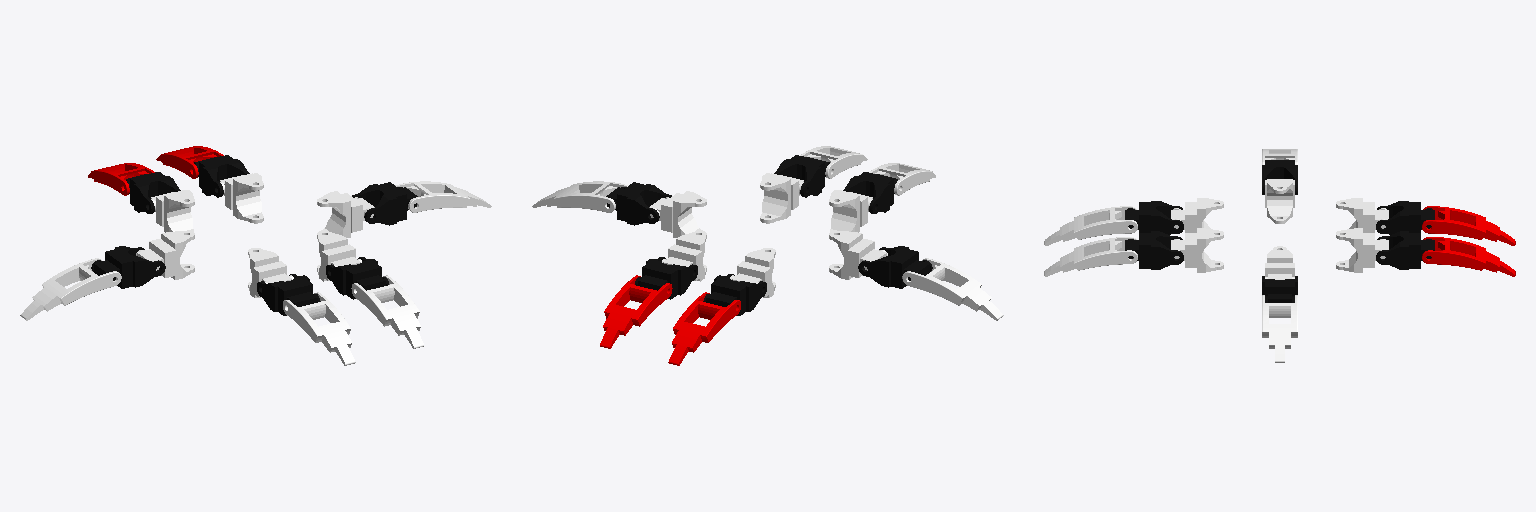
--- Facts derived from the render (not from the file) ---
The picture shows the robot from 3 angles, left to right: view 1: azimuth 30°, elevation 25°; view 2: azimuth 150°, elevation 25°; view 3: azimuth 270°, elevation 25°; orthographic projection.
Model hexapod_robot with 19 links and 18 joints (18 revolute), rooted at base_link, posed every joint at zero.
Visible links, largest first — view 1: foot_link_23, foot_link_33, foot_link_63, shin_link_22, foot_link_53, shin_link_52, thigh_link_41, thigh_link_21, thigh_link_51, shin_link_62, shin_link_32, thigh_link_11 (+6 smaller); view 2: foot_link_23, foot_link_13, foot_link_43, shin_link_22, foot_link_53, shin_link_52, thigh_link_61, thigh_link_21, thigh_link_51, shin_link_42, shin_link_12, thigh_link_31 (+6 smaller); view 3: foot_link_43, foot_link_63, foot_link_13, foot_link_33, foot_link_53, shin_link_42, shin_link_62, thigh_link_41, thigh_link_61, shin_link_12, shin_link_32, thigh_link_21 (+5 smaller).
Link boxes in pixels (x1,y1,x2,y2): foot_link_23: [20, 258, 121, 320]; foot_link_33: [283, 292, 355, 365]; foot_link_63: [351, 275, 423, 348]; shin_link_22: [91, 246, 165, 288]; foot_link_53: [395, 181, 491, 212]; shin_link_52: [352, 182, 417, 225]; thigh_link_41: [220, 173, 263, 223]; thigh_link_21: [136, 231, 194, 279]; thigh_link_51: [317, 191, 374, 237]; shin_link_62: [326, 257, 388, 299]; shin_link_32: [257, 274, 320, 315]; thigh_link_11: [151, 190, 194, 232]; foot_link_23: [902, 258, 1003, 320]; foot_link_13: [668, 292, 740, 365]; foot_link_43: [600, 275, 672, 348]; shin_link_22: [858, 246, 932, 288]; foot_link_53: [532, 181, 628, 212]; shin_link_52: [606, 182, 671, 225]; thigh_link_61: [760, 173, 803, 223]; thigh_link_21: [829, 231, 887, 279]; thigh_link_51: [649, 191, 706, 237]; shin_link_42: [635, 257, 697, 299]; shin_link_12: [703, 274, 766, 315]; thigh_link_31: [829, 190, 872, 232]; foot_link_43: [1422, 237, 1515, 276]; foot_link_63: [1044, 237, 1137, 276]; foot_link_13: [1422, 206, 1515, 245]; foot_link_33: [1044, 206, 1137, 245]; foot_link_53: [1262, 295, 1297, 362]; shin_link_42: [1376, 231, 1434, 269]; shin_link_62: [1125, 231, 1183, 269]; thigh_link_41: [1336, 228, 1388, 272]; thigh_link_61: [1171, 228, 1223, 272]; shin_link_12: [1376, 201, 1434, 234]; shin_link_32: [1125, 201, 1183, 234]; thigh_link_21: [1265, 179, 1294, 223].
Bounding box of the posed robot: 0.8654 × 0.8311 × 0.08 m (x, y, z).
Meshes: 13 distinct files referenced, 18 mesh visuals loaded (12 binary STL); not drawn: 1 (reference not matched to a file when rendering).

URDF robot description (hexapod_robot):
<?xml version="1.0"?>
<robot xmlns:xacro="http://www.ros.org/wiki/xacro"  name="hexapod_robot">

    <material name="white">
        <color rgba="1 1 1 1" />
    </material>

    <material name="orange">
        <color rgba="1 0.3 0.1 1"/>
    </material>

    <material name="black">
        <color rgba="0.1 0.1 0.1 1"/>
    </material>

    <material name="red">
        <color rgba="1 0 0 1"/>
    </material>
    
    <!-- Base Link
    <link name="base_link"/>

    <joint name="chassis_joint" type="fixed">
        <parent link="base_link"/>
        <child link="chassis"/>
        <origin xyz="0 0 0"/>
    </joint> -->
    
    <!-- Chassis link -->
    <link name="base_link">
        <visual>
            <origin xyz="0 0 0" rpy="0 0 0"/>
            <geometry>
		    <mesh filename="package://hexapod_pkg/meshes/base_link.stl" scale="1 1 1"/>
            </geometry>
            <material name="orange"/>
        </visual>
        <collision>
            <geometry>
		    <mesh filename="package://hexapod_pkg/meshes/base_link.stl" scale="1 1 1"/>
            </geometry>
        </collision>
        <inertial>
            <mass value="1.66723442"/>
            <inertia ixx="0.00977373" ixy="0.00001275" ixz="0.00023177" iyy="0.01042072" iyz="0.01042072" izz="0.01289955"/>
        </inertial>
    </link>
    
    <!-- chain 1 start -->
    <!-- joint 11 -->
    <joint name="joint_11" type="revolute">
        <parent link="base_link"/>
        <child link="thigh_link_11"/>
        <origin xyz="-0.06402054275 0.11088683276 0.028165" rpy="0 0 0"/>  <!-- Position relative to parent -->
        <axis xyz="0 0 -1"/>
        <limit lower="-1.0472" upper="2.0944" effort="4.5" velocity="3.0"/>
    </joint>

    <!-- Thigh Link 11 -->
    <link name="thigh_link_11">
        <visual>
            <origin xyz="0 0 0" rpy="0 0 0"/>
            <geometry>
                <mesh filename="package://hexapod_pkg/meshes/thigh_link_14.stl" scale="1 1 1"/>
            </geometry>
            <material name="white"/>
        </visual>
        <collision>
            <geometry>
                <mesh filename="package://hexapod_pkg/meshes/thigh_link_14.stl" scale="1 1 1"/>
            </geometry>
        </collision>
        <inertial>
            <mass value="0.1052"/>
            <inertia ixx="0.00032994" ixy="0.00000350" ixz="0" iyy="0.00003398" iyz="0" izz="0.00033378"/>
        </inertial>
    </link>

    <!-- joint 12 -->
    <joint name="joint_12" type="revolute">
        <parent link="thigh_link_11"/>
        <child link="shin_link_12"/>
        <origin xyz="0 0.07109 0" rpy="0 0 0"/>  <!-- Position relative to parent -->
        <axis xyz="1 0 0"/>
        <limit lower="-1.5712" upper="1.5712" effort="4.5" velocity="3.0"/>
    </joint>

    <!-- Shin Link 12 -->
    <link name="shin_link_12">
        <visual>
            <origin xyz="0 0 0" rpy="0 0 0"/>
            <geometry>
                <mesh filename="package://hexapod_pkg/meshes/shin_link_14.stl" scale="1 1 1"/>
            </geometry>
            <material name="black"/>
        </visual>
        <collision>
            <geometry>
                <mesh filename="package://hexapod_pkg/meshes/shin_link_14.stl" scale="1 1 1"/>
            </geometry>
        </collision>
        <inertial>
            <mass value="0.1011"/>
            <inertia ixx="0.00043187" ixy="0.00000399" ixz="0" iyy="0.00003189" iyz="0" izz="0.00045027"/>
        </inertial>
    </link>

    <!-- joint 13 -->
    <joint name="joint_13" type="revolute">
        <parent link="shin_link_12"/>
        <child link="foot_link_13"/>
        <origin xyz="0 0.08109 0" rpy="0 0 0"/>  <!-- Position relative to parent -->
        <axis xyz="1 0 0"/>
        <limit lower="-1.5712" upper="1.5712" effort="4.5" velocity="3.0"/>
    </joint>

    <!-- Foot Link 13 -->
    <link name="foot_link_13">
        <visual>
            <origin xyz="0 0 0" rpy="0 0 0"/>
            <geometry>
                <mesh filename="package://hexapod_pkg/meshes/foot_link_14.stl" scale="1 1 1"/>
            </geometry>
            <material name="red"/>
        </visual>
        <collision>
            <geometry>
                <mesh filename="package://hexapod_pkg/meshes/foot_link_14.stl" scale="1 1 1"/>
            </geometry>
        </collision>
        <inertial>
            <mass value="0.03702"/>
            <inertia ixx="0.00023291" ixy="0" ixz="0" iyy="0.00002537" iyz="-0.00004175" izz="0.00023879"/>
        </inertial>
    </link>
    <!-- chain 1 end -->

    <!-- chain 4 start -->
    <!-- joint 41 -->
    <joint name="joint_41" type="revolute">
        <parent link="base_link"/>
        <child link="thigh_link_41"/>
        <origin xyz="0.06402054275 0.11088683276 0.028165" rpy="0 0 0"/>  <!-- Position relative to parent -->
        <axis xyz="0 0 1"/>
        <limit lower="-2.0944" upper="1.0472" effort="4.5" velocity="3.0"/>
    </joint>

    <!-- Thigh Link 41 -->
    <link name="thigh_link_41">
        <visual>
            <origin xyz="0 0 0" rpy="0 0 0"/>
            <geometry>
                <mesh filename="package://hexapod_pkg/meshes/thigh_link_14.stl" scale="1 1 1"/>
            </geometry>
            <material name="white"/>
        </visual>
        <collision>
            <geometry>
                <mesh filename="package://hexapod_pkg/meshes/thigh_link_14.stl" scale="1 1 1"/>
            </geometry>
        </collision>
        <inertial>
            <mass value="0.1052"/>
            <inertia ixx="0.00032994" ixy="0.00000350" ixz="0" iyy="0.00003398" iyz="0" izz="0.00033378"/>
        </inertial>
    </link>

    <!-- joint 42 -->
    <joint name="joint_42" type="revolute">
        <parent link="thigh_link_41"/>
        <child link="shin_link_42"/>
        <origin xyz="0 0.07109 0" rpy="0 0 0"/>  <!-- Position relative to parent -->
        <axis xyz="1 0 0"/>
        <limit lower="-1.5712" upper="1.5712" effort="4.5" velocity="3.0"/>
    </joint>

    <!-- Shin Link 42 -->
    <link name="shin_link_42">
        <visual>
            <origin xyz="0 0 0" rpy="0 0 0"/>
            <geometry>
                <mesh filename="package://hexapod_pkg/meshes/shin_link_14.stl" scale="1 1 1"/>
            </geometry>
            <material name="black"/>
        </visual>
        <collision>
            <geometry>
                <mesh filename="package://hexapod_pkg/meshes/shin_link_14.stl" scale="1 1 1"/>
            </geometry>
        </collision>
        <inertial>
            <mass value="0.1011"/>
            <inertia ixx="0.00043187" ixy="0.00000399" ixz="0" iyy="0.00003189" iyz="0" izz="0.00045027"/>
        </inertial>
    </link>

    <!-- joint 43 -->
    <joint name="joint_43" type="revolute">
        <parent link="shin_link_42"/>
        <child link="foot_link_43"/>
        <origin xyz="0 0.08109 0" rpy="0 0 0"/>  <!-- Position relative to parent -->
        <axis xyz="1 0 0"/>
        <limit lower="-1.5712" upper="1.5712" effort="4.5" velocity="3.0"/>
    </joint>

    <!-- Foot Link 43 -->
    <link name="foot_link_43">
        <visual>
            <origin xyz="0 0 0" rpy="0 0 0"/>
            <geometry>
                <mesh filename="package://hexapod_pkg/meshes/foot_link_14.stl" scale="1 1 1"/>
            </geometry>
            <material name="red"/>
        </visual>
        <collision>
            <geometry>
                <mesh filename="package://hexapod_pkg/meshes/foot_link_14.stl" scale="1 1 1"/>
            </geometry>
        </collision>
        <inertial>
            <mass value="0.03702"/>
            <inertia ixx="0.00023291" ixy="0" ixz="0" iyy="0.00002537" iyz="-0.00004175" izz="0.00023879"/>
        </inertial>
    </link>
    <!-- chain 4 end -->

    <!-- chain 2 start -->
    <!-- joint 21 -->
    <joint name="joint_21" type="revolute">
        <parent link="base_link"/>
        <child link="thigh_link_21"/>
        <origin xyz="-0.12804108549 0 0.028165" rpy="0 0 0"/>  <!-- Position relative to parent -->
        <axis xyz="0 0 -1"/>
        <limit lower="-1.5712" upper="1.5712" effort="4.5" velocity="3.0"/>
    </joint>

    <!-- Thigh Link 21 -->
    <link name="thigh_link_21">
        <visual>
            <origin xyz="0 0 0" rpy="0 0 0"/>
            <geometry>
                <mesh filename="package://hexapod_pkg/meshes/thigh_link_2.stl" scale="1 1 1"/>
            </geometry>
            <material name="white"/>
        </visual>
        <collision>
            <geometry>
                <mesh filename="package://hexapod_pkg/meshes/thigh_link_2.stl" scale="1 1 1"/>
            </geometry>
        </collision>
        <inertial>
            <mass value="0.1052"/>
            <inertia ixx="0.00003398" ixy="-0.00000350" ixz="0" iyy="0.00032994" iyz="0" izz="0.00033378"/>
        </inertial>
    </link>

    <!-- joint 22 -->
    <joint name="joint_22" type="revolute">
        <parent link="thigh_link_21"/>
        <child link="shin_link_22"/>
        <origin xyz="-0.07109 0 0" rpy="0 0 0"/>  <!-- Position relative to parent -->
        <axis xyz="0 1 0"/>
        <limit lower="-1.5712" upper="1.5712" effort="4.5" velocity="3.0"/>
    </joint>

    <!-- Shin Link 22 -->
    <link name="shin_link_22">
        <visual>
            <origin xyz="0 0 0" rpy="0 0 0"/>
            <geometry>
                <mesh filename="package://hexapod_pkg/meshes/shin_link_2.stl" scale="1 1 1"/>
            </geometry>
            <material name="black"/>
        </visual>
        <collision>
            <geometry>
                <mesh filename="package://hexapod_pkg/meshes/shin_link_2.stl" scale="1 1 1"/>
            </geometry>
        </collision>
        <inertial>
            <mass value="0.1011"/>
            <inertia ixx="0.00003189" ixy="-0.00000399" ixz="0" iyy="0.00043187" iyz="0" izz="0.00045027"/>
        </inertial>
    </link>

    <!-- joint 23 -->
    <joint name="joint_23" type="revolute">
        <parent link="shin_link_22"/>
        <child link="foot_link_23"/>
        <origin xyz="-0.08109 0 0" rpy="0 0 0"/>  <!-- Position relative to parent -->
        <axis xyz="0 1 0"/>
        <limit lower="-1.5712" upper="1.5712" effort="4.5" velocity="3.0"/>
    </joint>

    <!-- Foot Link 23 -->
    <link name="foot_link_23">
        <visual>
            <origin xyz="0 0 0" rpy="0 0 0"/>
            <geometry>
                <mesh filename="package://hexapod_pkg/meshes/foot_link_2.stl" scale="1 1 1"/>
            </geometry>
            <material name="white"/>
        </visual>
        <collision>
            <geometry>
                <mesh filename="package://hexapod_pkg/meshes/foot_link_2.stl" scale="1 1 1"/>
            </geometry>
        </collision>
        <inertial>
            <mass value="0.03702"/>
            <inertia ixx="0.00002537" ixy="0" ixz="0.00004175" iyy="0.00023291" iyz="0" izz="0.00023879"/>
        </inertial>
    </link>
    <!-- chain 2 end -->

    <!-- chain 5 start -->
    <!-- joint 51 -->
    <joint name="joint_51" type="revolute">
        <parent link="base_link"/>
        <child link="thigh_link_51"/>
        <origin xyz="0.12804108549 0 0.028165" rpy="0 0 0"/>  <!-- Position relative to parent -->
        <axis xyz="0 0 1"/>
        <limit lower="-1.5712" upper="1.5712" effort="4.5" velocity="3.0"/>
    </joint>

    <!-- Thigh Link 51 -->
    <link name="thigh_link_51">
        <visual>
            <origin xyz="0 0 0" rpy="0 0 0"/>
            <geometry>
                <mesh filename="package://hexapod_pkg/meshes/thigh_link_5.stl" scale="1 1 1"/>
            </geometry>
            <material name="white"/>
        </visual>
        <collision>
            <geometry>
                <mesh filename="package://hexapod_pkg/meshes/thigh_link_5.stl" scale="1 1 1"/>
            </geometry>
        </collision>
        <inertial>
            <mass value="0.1052"/>
            <inertia ixx="0.00003398" ixy="-0.00000350" ixz="0" iyy="0.00032994" iyz="0" izz="0.00033378"/>
        </inertial>
    </link>

    <!-- joint 52 -->
    <joint name="joint_52" type="revolute">
        <parent link="thigh_link_51"/>
        <child link="shin_link_52"/>
        <origin xyz="0.07109 0 0" rpy="0 0 0"/>  <!-- Position relative to parent -->
        <axis xyz="0 -1 0"/>
        <limit lower="-1.5712" upper="1.5712" effort="4.5" velocity="3.0"/>
    </joint>

    <!-- Shin Link 52 -->
    <link name="shin_link_52">
        <visual>
            <origin xyz="0 0 0" rpy="0 0 0"/>
            <geometry>
                <mesh filename="package://hexapod_pkg/meshes/shin_link_5.stl" scale="1 1 1"/>
            </geometry>
            <material name="black"/>
        </visual>
        <collision>
            <geometry>
                <mesh filename="package://hexapod_pkg/meshes/shin_link_5.stl" scale="1 1 1"/>
            </geometry>
        </collision>
        <inertial>
            <mass value="0.1011"/>
            <inertia ixx="0.00003189" ixy="-0.00000399" ixz="0" iyy="0.00043187" iyz="0" izz="0.00045027"/>
        </inertial>
    </link>

    <!-- joint 53 -->
    <joint name="joint_53" type="revolute">
        <parent link="shin_link_52"/>
        <child link="foot_link_53"/>
        <origin xyz="0.08109 0 0" rpy="0 0 0"/>  <!-- Position relative to parent -->
        <axis xyz="0 -1 0"/>
        <limit lower="-1.5712" upper="1.5712" effort="4.5" velocity="3.0"/>
    </joint>

    <!-- Foot Link 53 -->
    <link name="foot_link_53">
        <visual>
            <origin xyz="0 0 0" rpy="0 0 0"/>
            <geometry>
                <mesh filename="package://hexapod_pkg/meshes/foot_link_5.stl" scale="1 1 1"/>
            </geometry>
            <material name="white"/>
        </visual>
        <collision>
            <geometry>
                <mesh filename="package://hexapod_pkg/meshes/foot_link_5.stl" scale="1 1 1"/>
            </geometry>
        </collision>
        <inertial>
            <mass value="0.03702"/>
            <inertia ixx="0.00002537" ixy="0" ixz="0.00004175" iyy="0.00023291" iyz="0" izz="0.00023879"/>
        </inertial>
    </link>
    <!-- chain 5 end -->

    <!-- chain 6 start -->
    <!-- joint 61 -->
    <joint name="joint_61" type="revolute">
        <parent link="base_link"/>
        <child link="thigh_link_61"/>
        <origin xyz="0.06402054275 -0.11088683276 0.028165" rpy="0 0 0"/>  <!-- Position relative to parent -->
        <axis xyz="0 0 1"/>
        <limit lower="-1.0472" upper="2.0944" effort="4.5" velocity="3.0"/>
    </joint>

    <!-- Thigh Link 61 -->
    <link name="thigh_link_61">
        <visual>
            <origin xyz="0 0 0" rpy="0 0 0"/>
            <geometry>
                <mesh filename="package://hexapod_pkg/meshes/thigh_link_36.stl" scale="1 1 1"/>
            </geometry>
            <material name="white"/>
        </visual>
        <collision>
            <geometry>
                <mesh filename="package://hexapod_pkg/meshes/thigh_link_36.stl" scale="1 1 1"/>
            </geometry>
        </collision>
        <inertial>
            <mass value="0.1052"/>
            <inertia ixx="0.00032994" ixy="0.00000350" ixz="0" iyy="0.00003398" iyz="0" izz="0.00033378"/>
        </inertial>
    </link>

    <!-- joint 62 -->
    <joint name="joint_62" type="revolute">
        <parent link="thigh_link_61"/>
        <child link="shin_link_62"/>
        <origin xyz="0 -0.07109 0" rpy="0 0 0"/>  <!-- Position relative to parent -->
        <axis xyz="-1 0 0"/>
        <limit lower="-1.5712" upper="1.5712" effort="4.5" velocity="3.0"/>
    </joint>

    <!-- Shin Link 62 -->
    <link name="shin_link_62">
        <visual>
            <origin xyz="0 0 0" rpy="0 0 0"/>
            <geometry>
                <mesh filename="package://hexapod_pkg/meshes/shin_link_36.stl" scale="1 1 1"/>
            </geometry>
            <material name="black"/>
        </visual>
        <collision>
            <geometry>
                <mesh filename="package://hexapod_pkg/meshes/shin_link_36.stl" scale="1 1 1"/>
            </geometry>
        </collision>
        <inertial>
            <mass value="0.1011"/>
            <inertia ixx="0.00043187" ixy="0.00000399" ixz="0" iyy="0.00003189" iyz="0" izz="0.00045027"/>
        </inertial>
    </link>

    <!-- joint 63 -->
    <joint name="joint_63" type="revolute">
        <parent link="shin_link_62"/>
        <child link="foot_link_63"/>
        <origin xyz="0 -0.08109 0" rpy="0 0 0"/>  <!-- Position relative to parent -->
        <axis xyz="-1 0 0"/>
        <limit lower="-1.5712" upper="1.5712" effort="4.5" velocity="3.0"/>
    </joint>

    <!-- Foot Link 63 -->
    <link name="foot_link_63">
        <visual>
            <origin xyz="0 0 0" rpy="0 0 0"/>
            <geometry>
                <mesh filename="package://hexapod_pkg/meshes/foot_link_36.stl" scale="1 1 1"/>
            </geometry>
            <material name="white"/>
        </visual>
        <collision>
            <geometry>
                <mesh filename="package://hexapod_pkg/meshes/foot_link_36.stl" scale="1 1 1"/>
            </geometry>
        </collision>
        <inertial>
            <mass value="0.03702"/>
            <inertia ixx="0.00023291" ixy="0" ixz="0" iyy="0.00002537" iyz="-0.00004175" izz="0.00023879"/>
        </inertial>
    </link>
    <!-- chain 6 end -->

    <!-- chain 3 start -->
    <!-- joint 31 -->
    <joint name="joint_31" type="revolute">
        <parent link="base_link"/>
        <child link="thigh_link_31"/>
        <origin xyz="-0.06402054275 -0.11088683276 0.028165" rpy="0 0 0"/>  <!-- Position relative to parent -->
        <axis xyz="0 0 -1"/>
        <limit lower="-2.0944" upper="1.0472" effort="4.5" velocity="3.0"/>
    </joint>

    <!-- Thigh Link 31 -->
    <link name="thigh_link_31">
        <visual>
            <origin xyz="0 0 0" rpy="0 0 0"/>
            <geometry>
                <mesh filename="package://hexapod_pkg/meshes/thigh_link_36.stl" scale="1 1 1"/>
            </geometry>
            <material name="white"/>
        </visual>
        <collision>
            <geometry>
                <mesh filename="package://hexapod_pkg/meshes/thigh_link_36.stl" scale="1 1 1"/>
            </geometry>
        </collision>
        <inertial>
            <mass value="0.1052"/>
            <inertia ixx="0.00032994" ixy="0.00000350" ixz="0" iyy="0.00003398" iyz="0" izz="0.00033378"/>
        </inertial>
    </link>

    <!-- joint 32 -->
    <joint name="joint_32" type="revolute">
        <parent link="thigh_link_31"/>
        <child link="shin_link_32"/>
        <origin xyz="0 -0.07109 0" rpy="0 0 0"/>  <!-- Position relative to parent -->
        <axis xyz="-1 0 0"/>
        <limit lower="-1.5712" upper="1.5712" effort="4.5" velocity="3.0"/>
    </joint>

    <!-- Shin Link 32 -->
    <link name="shin_link_32">
        <visual>
            <origin xyz="0 0 0" rpy="0 0 0"/>
            <geometry>
                <mesh filename="package://hexapod_pkg/meshes/shin_link_36.stl" scale="1 1 1"/>
            </geometry>
            <material name="black"/>
        </visual>
        <collision>
            <geometry>
                <mesh filename="package://hexapod_pkg/meshes/shin_link_36.stl" scale="1 1 1"/>
            </geometry>
        </collision>
        <inertial>
            <mass value="0.1011"/>
            <inertia ixx="0.00043187" ixy="0.00000399" ixz="0" iyy="0.00003189" iyz="0" izz="0.00045027"/>
        </inertial>
    </link>

    <!-- joint 33 -->
    <joint name="joint_33" type="revolute">
        <parent link="shin_link_32"/>
        <child link="foot_link_33"/>
        <origin xyz="0 -0.08109 0" rpy="0 0 0"/>  <!-- Position relative to parent -->
        <axis xyz="-1 0 0"/>
        <limit lower="-1.5712" upper="1.5712" effort="4.5" velocity="3.0"/>
    </joint>

    <!-- Foot Link 33 -->
    <link name="foot_link_33">
        <visual>
            <origin xyz="0 0 0" rpy="0 0 0"/>
            <geometry>
                <mesh filename="package://hexapod_pkg/meshes/foot_link_36.stl" scale="1 1 1"/>
            </geometry>
            <material name="white"/>
        </visual>
        <collision>
            <geometry>
                <mesh filename="package://hexapod_pkg/meshes/foot_link_36.stl" scale="1 1 1"/>
            </geometry>
        </collision>
        <inertial>
            <mass value="0.03702"/>
            <inertia ixx="0.00023291" ixy="0" ixz="0" iyy="0.00002537" iyz="-0.00004175" izz="0.00023879"/>
        </inertial>
    </link>
    <!-- chain 3 end -->

    <!-- gazebo control -->
    <!-- LEG 1 -->
    <transmission name="trans_joint_11">
        <type>transmission_interface/SimpleTransmission</type>
        <joint name="joint_11">
            <hardwareInterface>hardware_interface/PositionJointInterface</hardwareInterface>
        </joint>
        <actuator name="trans_joint_11_motor">
            <hardwareInterface>hardware_interface/PositionJointInterface</hardwareInterface>
            <mechanicalReduction>1</mechanicalReduction>
        </actuator>
    </transmission>

    <transmission name="trans_joint_12">
    <type>transmission_interface/SimpleTransmission</type>
    <joint name="joint_12">
        <hardwareInterface>hardware_interface/PositionJointInterface</hardwareInterface>
    </joint>
    <actuator name="trans_joint_12_motor">
        <hardwareInterface>hardware_interface/PositionJointInterface</hardwareInterface>
        <mechanicalReduction>1</mechanicalReduction>
    </actuator>
    </transmission>

    <transmission name="trans_joint_13">
    <type>transmission_interface/SimpleTransmission</type>
    <joint name="joint_13">
        <hardwareInterface>hardware_interface/PositionJointInterface</hardwareInterface>
    </joint>
    <actuator name="trans_joint_13_motor">
        <hardwareInterface>hardware_interface/PositionJointInterface</hardwareInterface>
        <mechanicalReduction>1</mechanicalReduction>
    </actuator>
    </transmission>

    <!-- LEG 2 -->
    <transmission name="trans_joint_21">
    <type>transmission_interface/SimpleTransmission</type>
    <joint name="joint_21">
        <hardwareInterface>hardware_interface/PositionJointInterface</hardwareInterface>
    </joint>
    <actuator name="trans_joint_21_motor">
        <hardwareInterface>hardware_interface/PositionJointInterface</hardwareInterface>
        <mechanicalReduction>1</mechanicalReduction>
    </actuator>
    </transmission>

    <transmission name="trans_joint_22">
    <type>transmission_interface/SimpleTransmission</type>
    <joint name="joint_22">
        <hardwareInterface>hardware_interface/PositionJointInterface</hardwareInterface>
    </joint>
    <actuator name="trans_joint_22_motor">
        <hardwareInterface>hardware_interface/PositionJointInterface</hardwareInterface>
        <mechanicalReduction>1</mechanicalReduction>
    </actuator>
    </transmission>

    <transmission name="trans_joint_23">
    <type>transmission_interface/SimpleTransmission</type>
    <joint name="joint_23">
        <hardwareInterface>hardware_interface/PositionJointInterface</hardwareInterface>
    </joint>
    <actuator name="trans_joint_23_motor">
        <hardwareInterface>hardware_interface/PositionJointInterface</hardwareInterface>
        <mechanicalReduction>1</mechanicalReduction>
    </actuator>
    </transmission>

    <!-- LEG 3 -->
    <transmission name="trans_joint_31">
    <type>transmission_interface/SimpleTransmission</type>
    <joint name="joint_31">
        <hardwareInterface>hardware_interface/PositionJointInterface</hardwareInterface>
    </joint>
    <actuator name="trans_joint_31_motor">
        <hardwareInterface>hardware_interface/PositionJointInterface</hardwareInterface>
        <mechanicalReduction>1</mechanicalReduction>
    </actuator>
    </transmission>

    <transmission name="trans_joint_32">
    <type>transmission_interface/SimpleTransmission</type>
    <joint name="joint_32">
        <hardwareInterface>hardware_interface/PositionJointInterface</hardwareInterface>
    </joint>
    <actuator name="trans_joint_32_motor">
        <hardwareInterface>hardware_interface/PositionJointInterface</hardwareInterface>
        <mechanicalReduction>1</mechanicalReduction>
    </actuator>
    </transmission>

    <transmission name="trans_joint_33">
    <type>transmission_interface/SimpleTransmission</type>
    <joint name="joint_33">
        <hardwareInterface>hardware_interface/PositionJointInterface</hardwareInterface>
    </joint>
    <actuator name="trans_joint_33_motor">
        <hardwareInterface>hardware_interface/PositionJointInterface</hardwareInterface>
        <mechanicalReduction>1</mechanicalReduction>
    </actuator>
    </transmission>

    <!-- LEG 4 -->
    <transmission name="trans_joint_41">
    <type>transmission_interface/SimpleTransmission</type>
    <joint name="joint_41">
        <hardwareInterface>hardware_interface/PositionJointInterface</hardwareInterface>
    </joint>
    <actuator name="trans_joint_41_motor">
        <hardwareInterface>hardware_interface/PositionJointInterface</hardwareInterface>
        <mechanicalReduction>1</mechanicalReduction>
    </actuator>
    </transmission>

    <transmission name="trans_joint_42">
    <type>transmission_interface/SimpleTransmission</type>
    <joint name="joint_42">
        <hardwareInterface>hardware_interface/PositionJointInterface</hardwareInterface>
    </joint>
    <actuator name="trans_joint_42_motor">
        <hardwareInterface>hardware_interface/PositionJointInterface</hardwareInterface>
        <mechanicalReduction>1</mechanicalReduction>
    </actuator>
    </transmission>

    <transmission name="trans_joint_43">
    <type>transmission_interface/SimpleTransmission</type>
    <joint name="joint_43">
        <hardwareInterface>hardware_interface/PositionJointInterface</hardwareInterface>
    </joint>
    <actuator name="trans_joint_43_motor">
        <hardwareInterface>hardware_interface/PositionJointInterface</hardwareInterface>
        <mechanicalReduction>1</mechanicalReduction>
    </actuator>
    </transmission>

    <!-- LEG 5 -->
    <transmission name="trans_joint_51">
    <type>transmission_interface/SimpleTransmission</type>
    <joint name="joint_51">
        <hardwareInterface>hardware_interface/PositionJointInterface</hardwareInterface>
    </joint>
    <actuator name="trans_joint_51_motor">
        <hardwareInterface>hardware_interface/PositionJointInterface</hardwareInterface>
        <mechanicalReduction>1</mechanicalReduction>
    </actuator>
    </transmission>

    <transmission name="trans_joint_52">
    <type>transmission_interface/SimpleTransmission</type>
    <joint name="joint_52">
        <hardwareInterface>hardware_interface/PositionJointInterface</hardwareInterface>
    </joint>
    <actuator name="trans_joint_52_motor">
        <hardwareInterface>hardware_interface/PositionJointInterface</hardwareInterface>
        <mechanicalReduction>1</mechanicalReduction>
    </actuator>
    </transmission>

    <transmission name="trans_joint_53">
    <type>transmission_interface/SimpleTransmission</type>
    <joint name="joint_53">
        <hardwareInterface>hardware_interface/PositionJointInterface</hardwareInterface>
    </joint>
    <actuator name="trans_joint_53_motor">
        <hardwareInterface>hardware_interface/PositionJointInterface</hardwareInterface>
        <mechanicalReduction>1</mechanicalReduction>
    </actuator>
    </transmission>

    <!-- LEG 6 -->
    <transmission name="trans_joint_61">
    <type>transmission_interface/SimpleTransmission</type>
    <joint name="joint_61">
        <hardwareInterface>hardware_interface/PositionJointInterface</hardwareInterface>
    </joint>
    <actuator name="trans_joint_61_motor">
        <hardwareInterface>hardware_interface/PositionJointInterface</hardwareInterface>
        <mechanicalReduction>1</mechanicalReduction>
    </actuator>
    </transmission>

    <transmission name="trans_joint_62">
    <type>transmission_interface/SimpleTransmission</type>
    <joint name="joint_62">
        <hardwareInterface>hardware_interface/PositionJointInterface</hardwareInterface>
    </joint>
    <actuator name="trans_joint_62_motor">
        <hardwareInterface>hardware_interface/PositionJointInterface</hardwareInterface>
        <mechanicalReduction>1</mechanicalReduction>
    </actuator>
    </transmission>

    <transmission name="trans_joint_63">
    <type>transmission_interface/SimpleTransmission</type>
    <joint name="joint_63">
        <hardwareInterface>hardware_interface/PositionJointInterface</hardwareInterface>
    </joint>
    <actuator name="trans_joint_63_motor">
        <hardwareInterface>hardware_interface/PositionJointInterface</hardwareInterface>
        <mechanicalReduction>1</mechanicalReduction>
    </actuator>
    </transmission>


    <gazebo>
        <plugin name="gazebo_ros_control" filename="libgazebo_ros_control.so">
            <robotNamespace>/</robotNamespace>
        </plugin>
    </gazebo>

    <gazebo reference="base_link">
    	<material>Gazebo/Black</material>
    </gazebo>
    <gazebo reference="thigh_link_11">
    	<material>Gazebo/White</material>
    </gazebo>
    <gazebo reference="thigh_link_21">
    	<material>Gazebo/White</material>
    </gazebo>
    <gazebo reference="thigh_link_31">
    	<material>Gazebo/White</material>
    </gazebo>
    <gazebo reference="thigh_link_41">
    	<material>Gazebo/White</material>
    </gazebo>
    <gazebo reference="thigh_link_51">
    	<material>Gazebo/White</material>
    </gazebo>
    <gazebo reference="thigh_link_61">
    	<material>Gazebo/White</material>
    </gazebo>
    <gazebo reference="shin_link_12">
    	<material>Gazebo/Black</material>
    </gazebo>
    <gazebo reference="shin_link_22">
    	<material>Gazebo/Black</material>
    </gazebo>
    <gazebo reference="shin_link_32">
    	<material>Gazebo/Black</material>
    </gazebo>
    <gazebo reference="shin_link_42">
    	<material>Gazebo/Black</material>
    </gazebo>
    <gazebo reference="shin_link_52">
    	<material>Gazebo/Black</material>
    </gazebo>
    <gazebo reference="shin_link_62">
    	<material>Gazebo/Black</material>
    </gazebo>
    <gazebo reference="foot_link_13">
    	<material>Gazebo/White</material>
    </gazebo>
    <gazebo reference="foot_link_23">
    	<material>Gazebo/White</material>
    </gazebo>
    <gazebo reference="foot_link_33">
    	<material>Gazebo/White</material>
    </gazebo>
    <gazebo reference="foot_link_43">
    	<material>Gazebo/White</material>
    </gazebo>
    <gazebo reference="foot_link_53">
    	<material>Gazebo/White</material>
    </gazebo>
    <gazebo reference="foot_link_63">
    	<material>Gazebo/White</material>
    </gazebo>
    
</robot>
